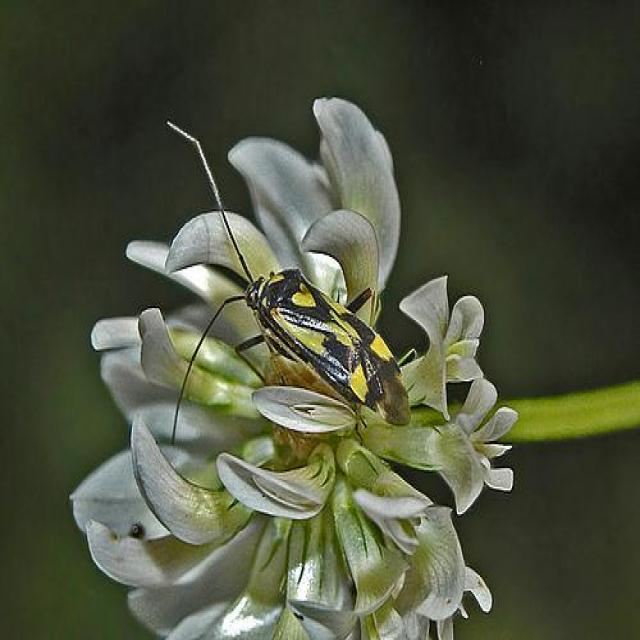Miridae-Adult-: (150, 114, 417, 464)
